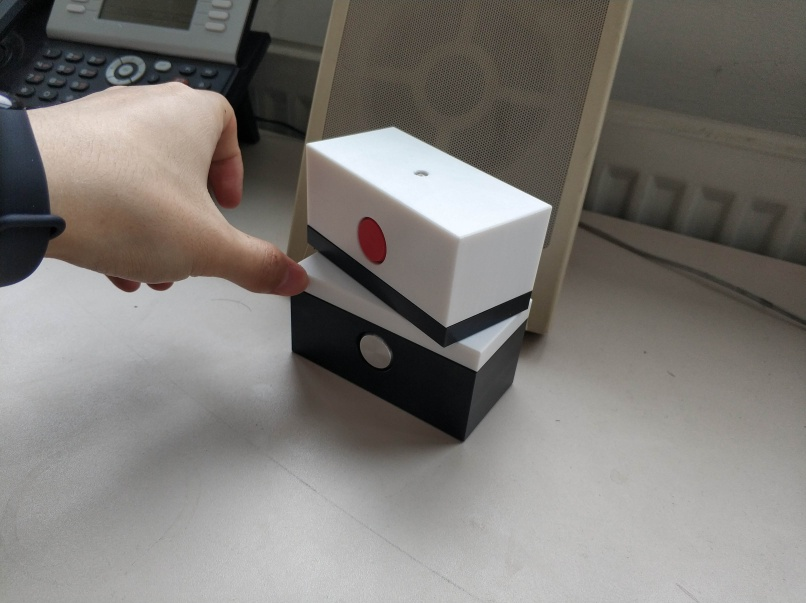black+white+red: (303, 121, 555, 349)
white+black+silver: (286, 250, 534, 444)
